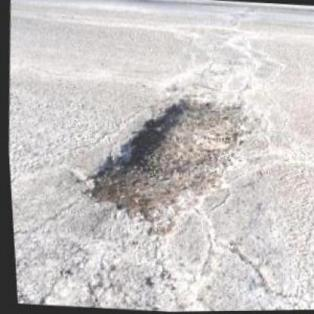Hueco: (75, 87, 263, 240)
